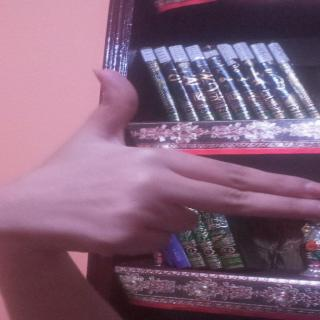GHAYN: (12, 65, 320, 264)
